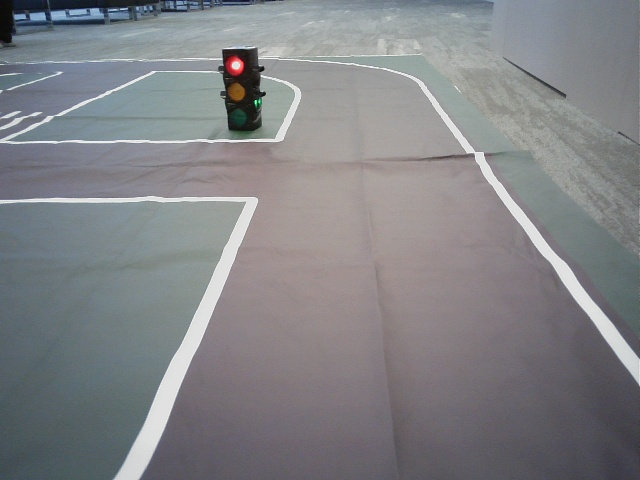red: (224, 50, 248, 127)
